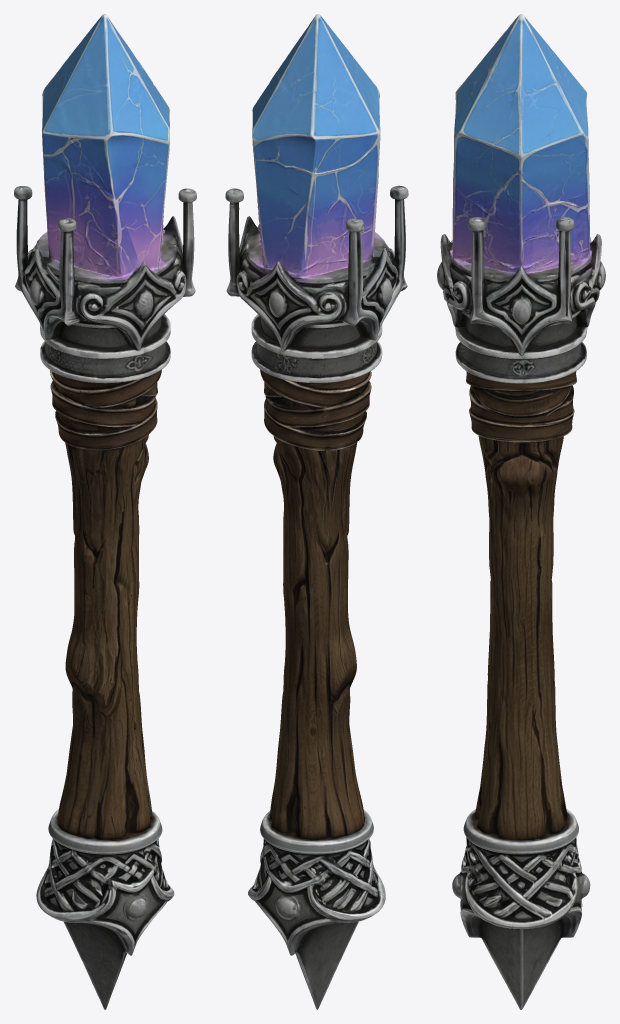
Rendered from BEAM_STAFF.glb.
The picture shows the model from 3 angles, left to right: view 1: azimuth 30°, elevation 25°; view 2: azimuth 150°, elevation 25°; view 3: azimuth 270°, elevation 25°; orthographic projection.
Visible parts, largest first — view 1: tripo_node_1446be31-80b2-42ea-afef-3f301293fb00; view 2: tripo_node_1446be31-80b2-42ea-afef-3f301293fb00; view 3: tripo_node_1446be31-80b2-42ea-afef-3f301293fb00.
Boxes of the visible parts, <box> form: tripo_node_1446be31-80b2-42ea-afef-3f301293fb00: <box>14,14,196,1009</box>; tripo_node_1446be31-80b2-42ea-afef-3f301293fb00: <box>225,14,408,1009</box>; tripo_node_1446be31-80b2-42ea-afef-3f301293fb00: <box>437,14,605,1009</box>.
Size of the model in its own units: 0.1592 by 0.9999 by 0.1538.
1 material, 1 textured.
